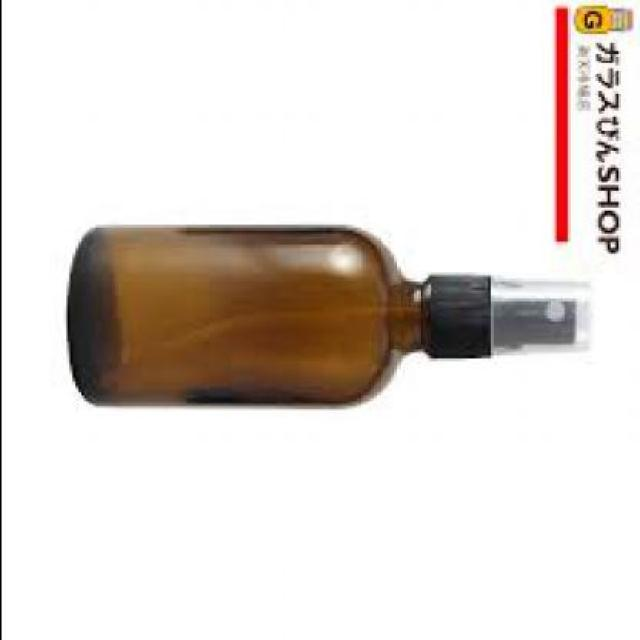glass: (63, 223, 429, 405)
plastic: (428, 276, 592, 356)
